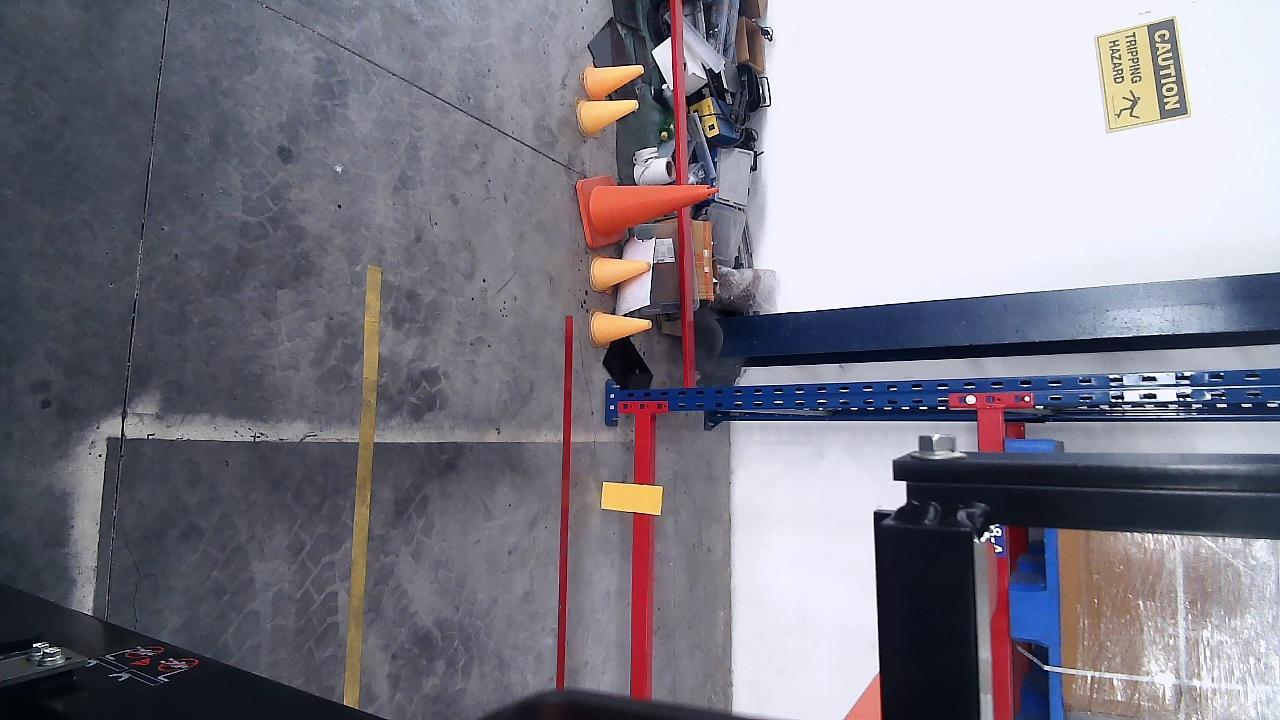h_rack: (631, 411, 654, 700)
orange_strip: (601, 483, 664, 512)
red_line: (554, 314, 574, 687)
yellow_line: (341, 265, 381, 709)
